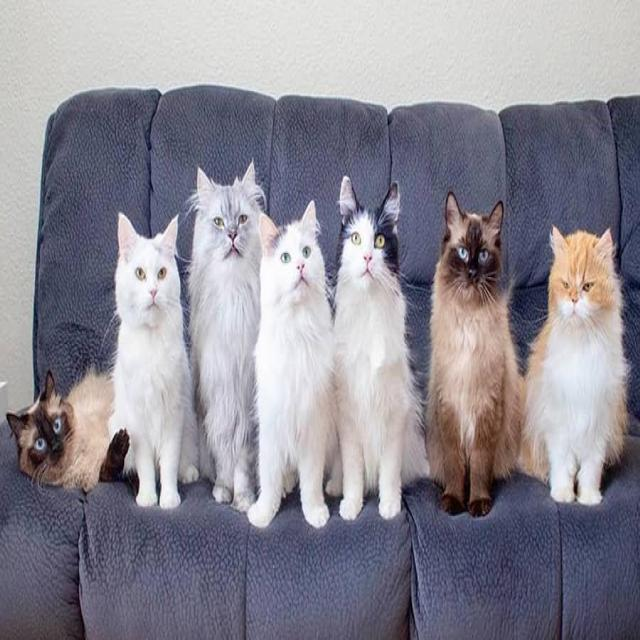Cat: (336, 178, 408, 302), (4, 366, 78, 484), (110, 210, 184, 326), (440, 195, 511, 307), (548, 224, 617, 328), (193, 164, 260, 270), (258, 205, 326, 308)
